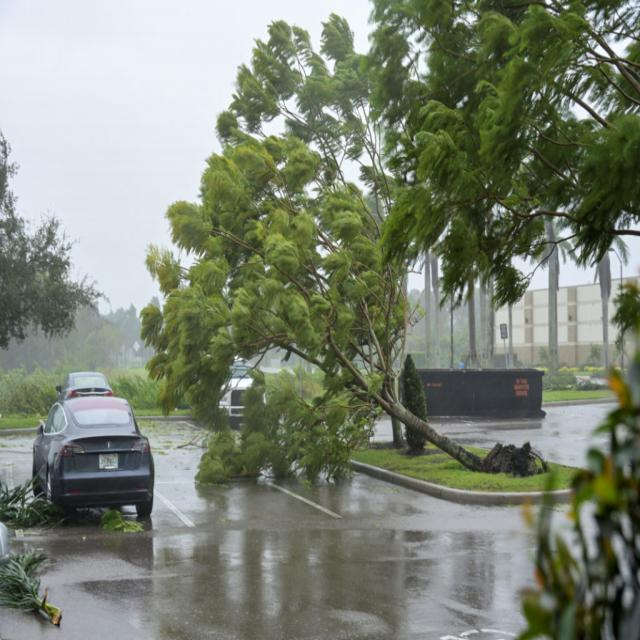Hurricane: (71, 92, 618, 602)
